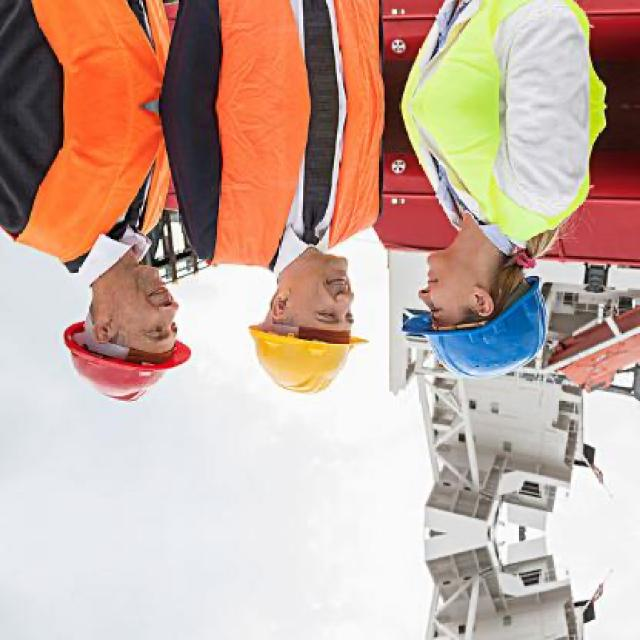con casco: (395, 167, 572, 400), (43, 208, 207, 414), (240, 205, 392, 414)
